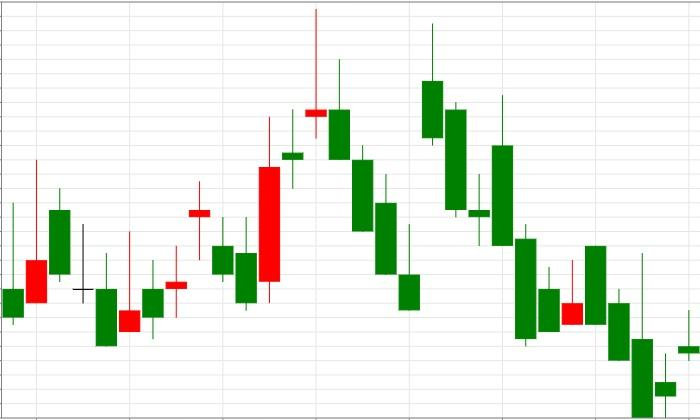inverse_hammer_rise: (421, 22, 584, 346), (49, 188, 141, 347)
